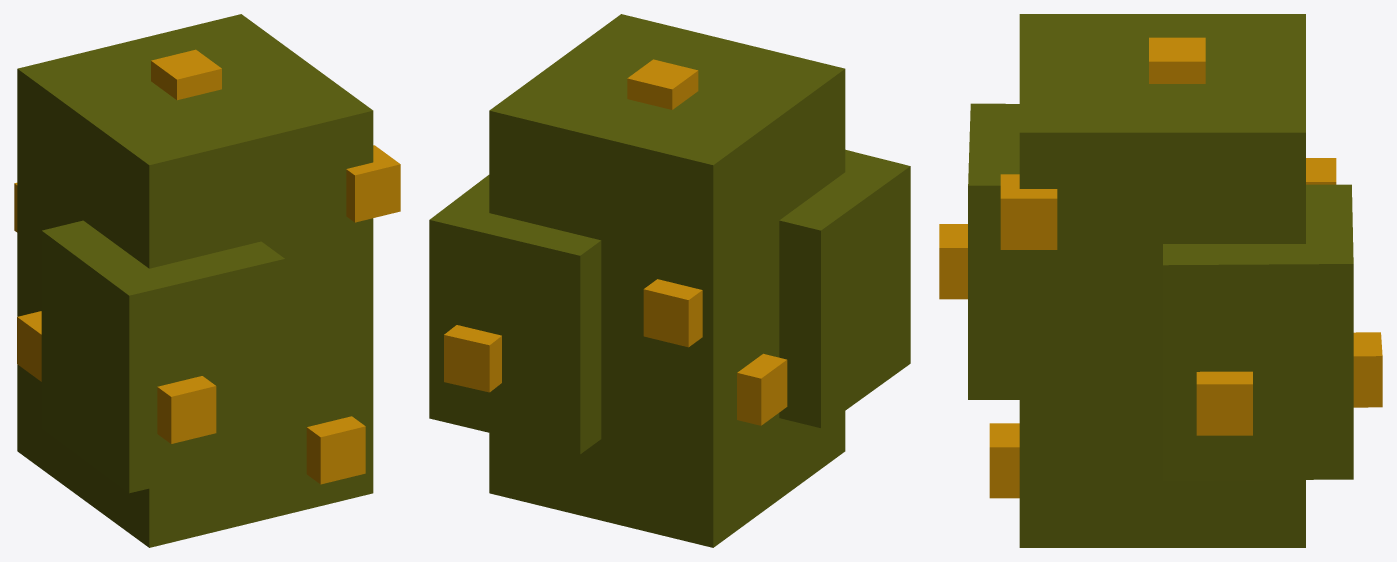
File: Shrub12.fbx
The picture shows the model from 3 angles, left to right: view 1: azimuth 30°, elevation 25°; view 2: azimuth 150°, elevation 25°; view 3: azimuth 270°, elevation 25°; orthographic projection. The views are drawn at different scales.
Visible parts, largest first — view 1: Cube.026, Cube.021; view 2: Cube.026, Cube.021; view 3: Cube.026, Cube.021.
Boxes of the visible parts, x1,y1,x2,y2 form: Cube.026: (17,14,373,547); Cube.021: (14,49,400,484); Cube.026: (429,14,910,547); Cube.021: (444,59,787,425); Cube.026: (968,14,1353,547); Cube.021: (939,37,1382,498).
Bounding box in the file's own units: 3901 × 4554 × 4179.
